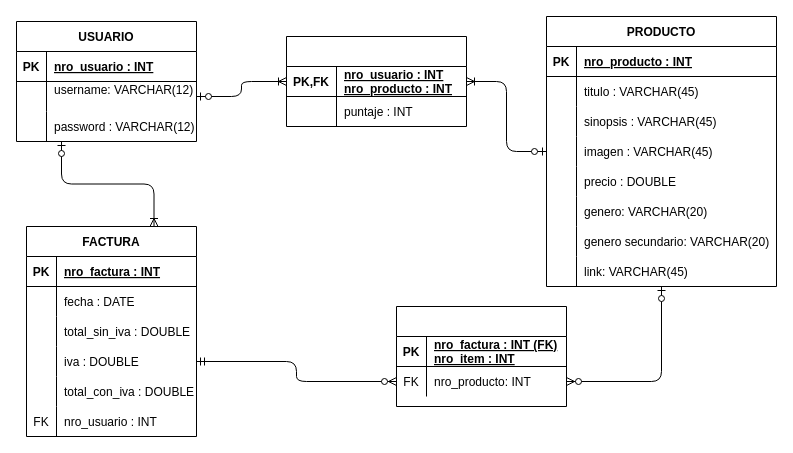
The diagram is 793 pixels wide and 453 high, and some of its shapes have lost their labels. The box of each missing label's shape, as (x1, y1, x2, y2) in pixels:
BIBLIOTECA: (286, 36, 466, 126)
DETALLE_FACTURA: (396, 306, 566, 406)
